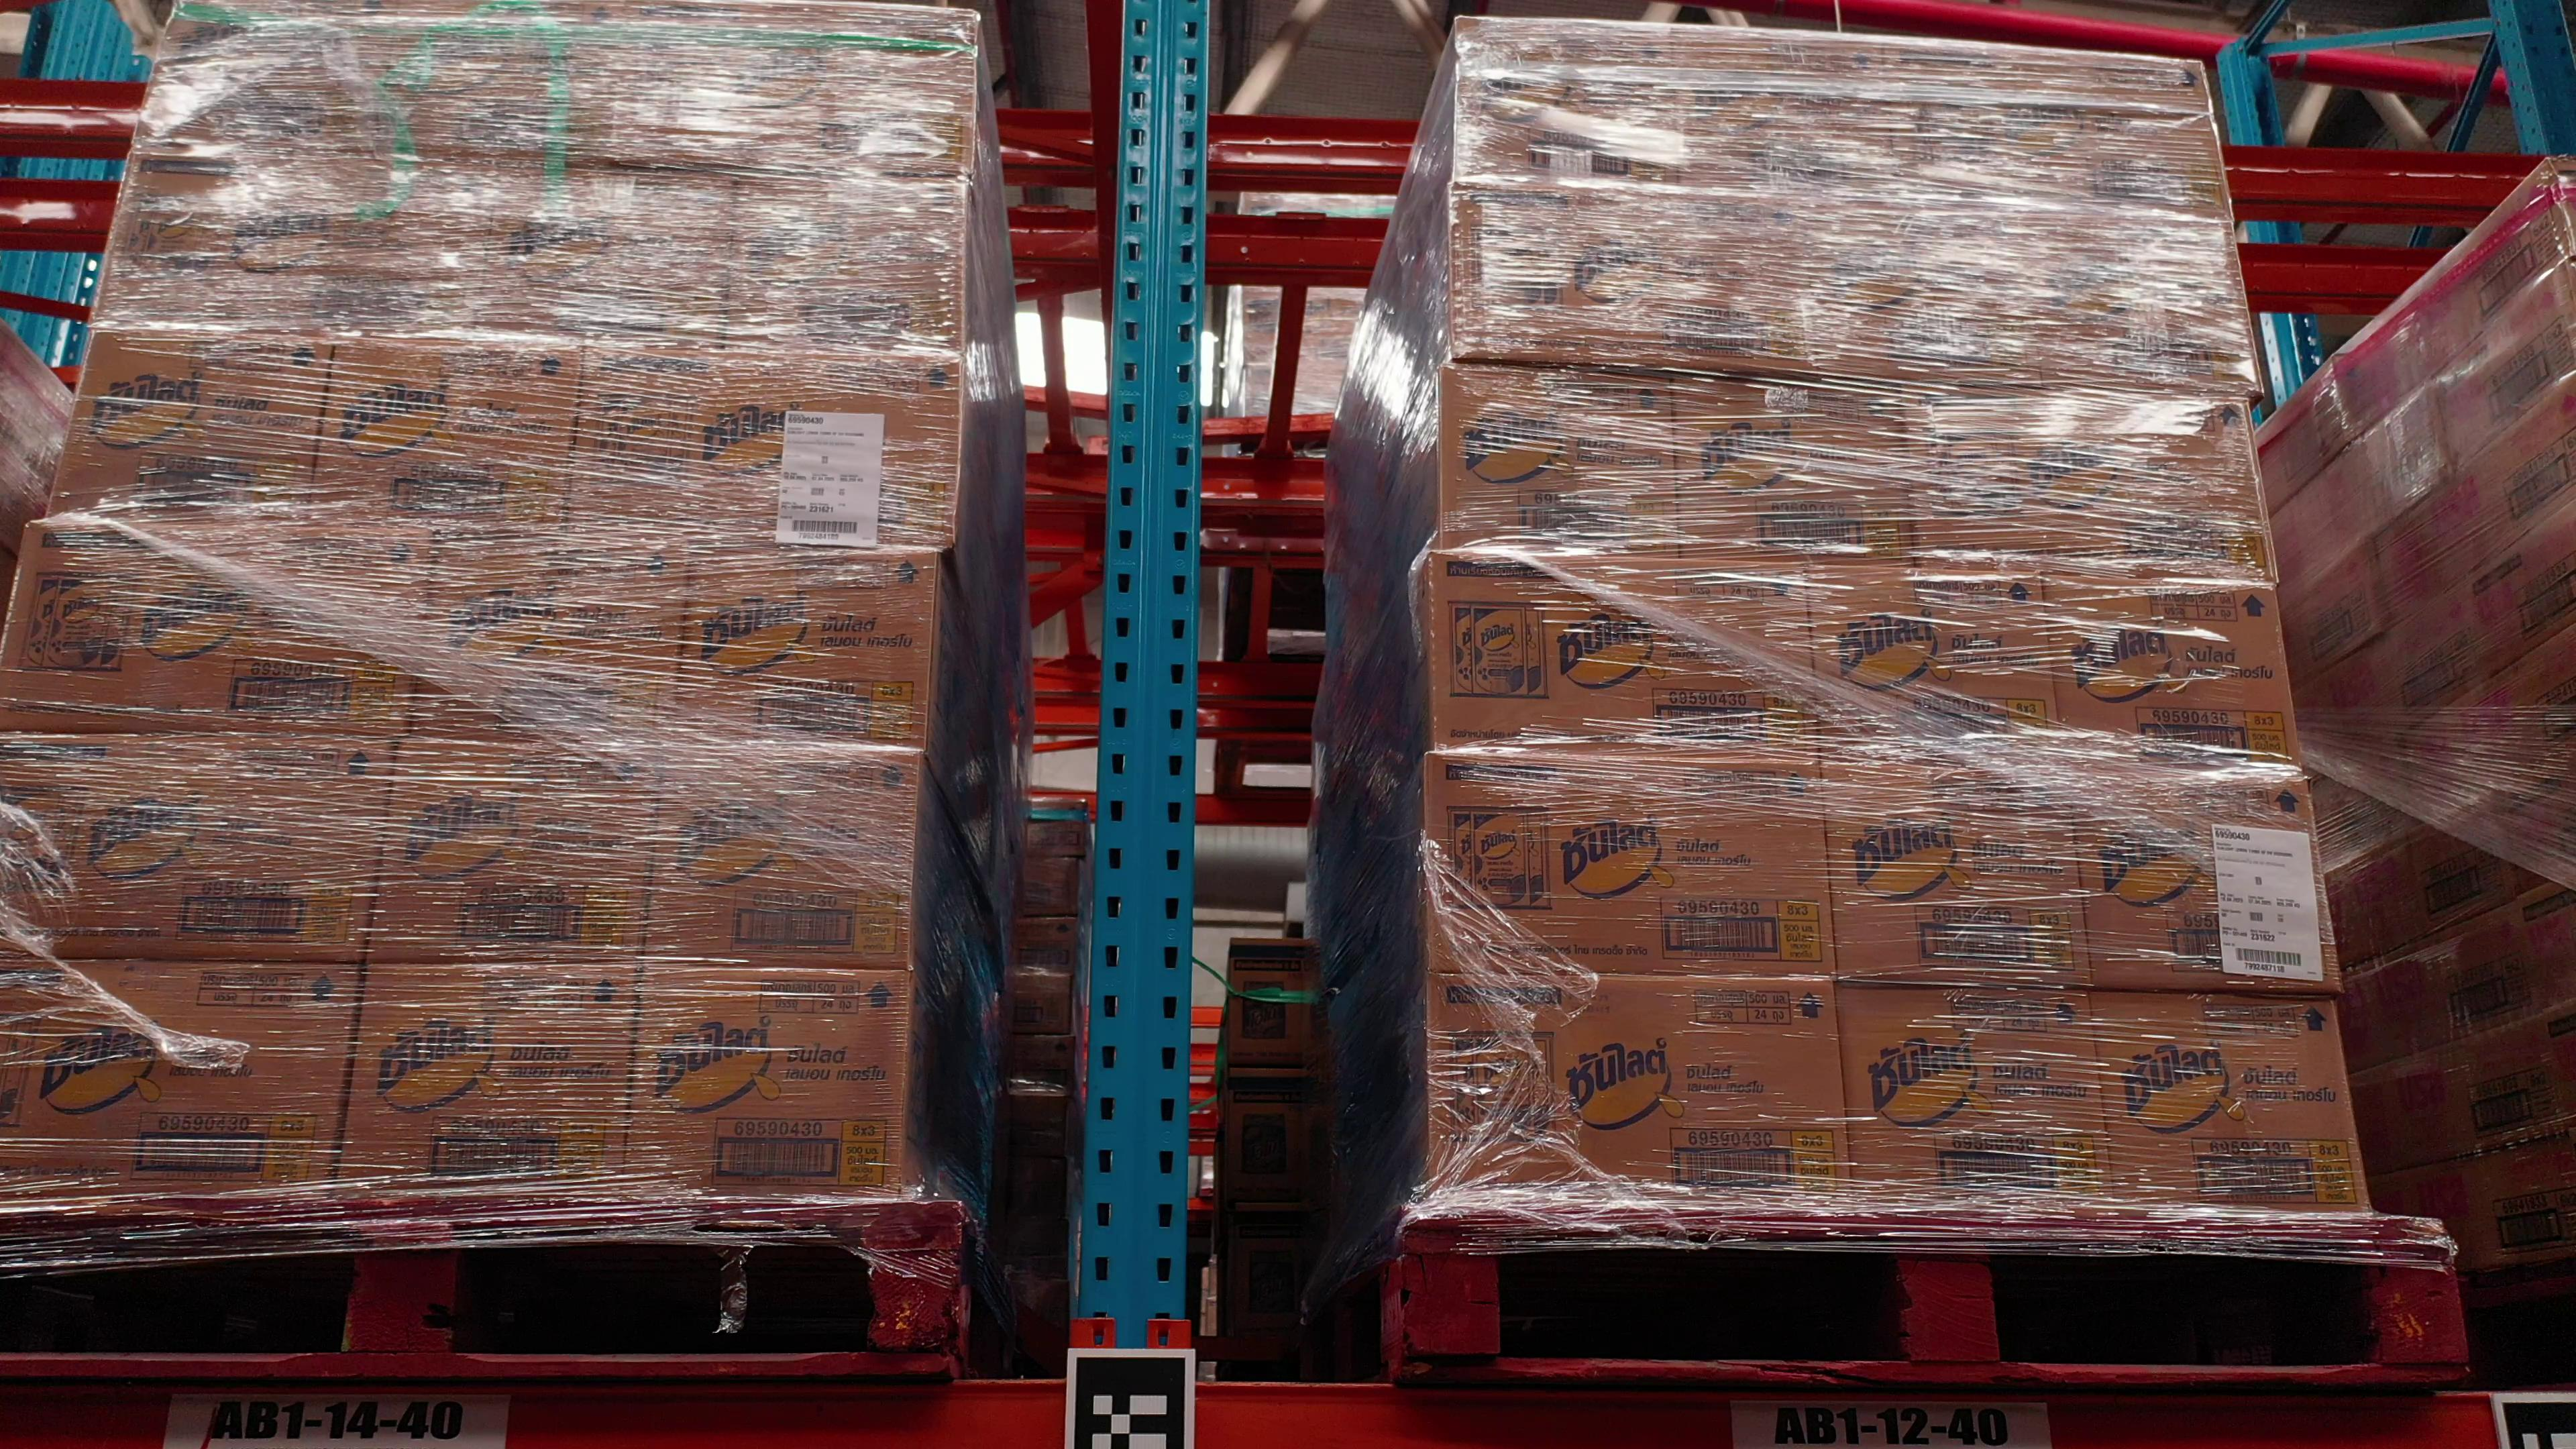-: (1431, 971, 1851, 1214), (1424, 748, 1836, 980), (0, 520, 439, 729), (0, 731, 400, 957), (0, 955, 364, 1198), (566, 340, 961, 548), (92, 145, 494, 347), (1907, 373, 2288, 586), (1426, 548, 1821, 752), (324, 957, 642, 1194), (1454, 179, 1821, 375), (616, 959, 909, 1198), (363, 734, 669, 961), (2068, 754, 2344, 998), (1819, 748, 2093, 989), (1836, 982, 2120, 1214), (642, 734, 924, 964), (1890, 35, 2235, 223), (2095, 985, 2365, 1212), (304, 336, 586, 541), (405, 540, 692, 738), (42, 336, 340, 527), (672, 541, 943, 748), (469, 154, 740, 350), (2042, 570, 2298, 770), (1808, 559, 2066, 757), (1438, 359, 1681, 566), (1672, 372, 1918, 568), (1806, 193, 2049, 387), (722, 168, 971, 356), (2031, 205, 2265, 396), (1454, 14, 1688, 193), (1675, 23, 1900, 195)
